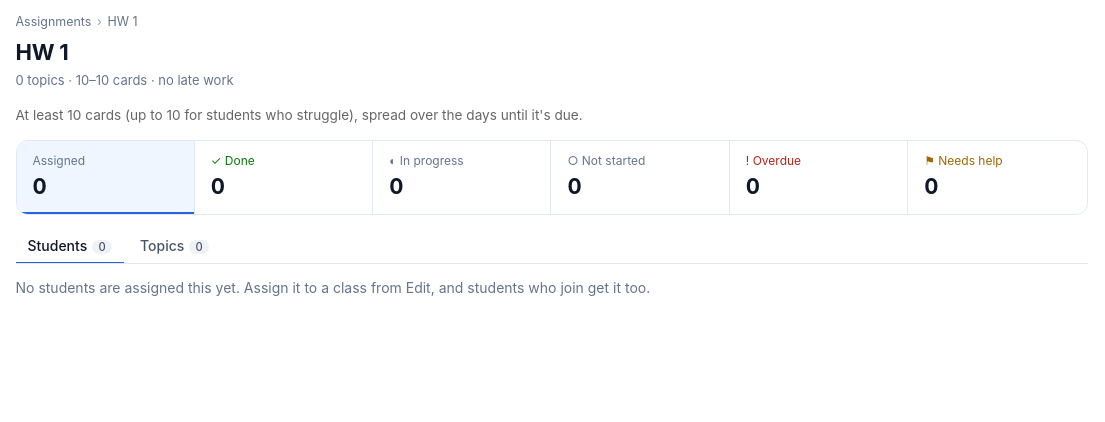
Test: AssignmentDetail › says so when there are no misses yet
Click the tab "Topics0": click(175, 246) x1=128 y1=229 x2=221 y2=264
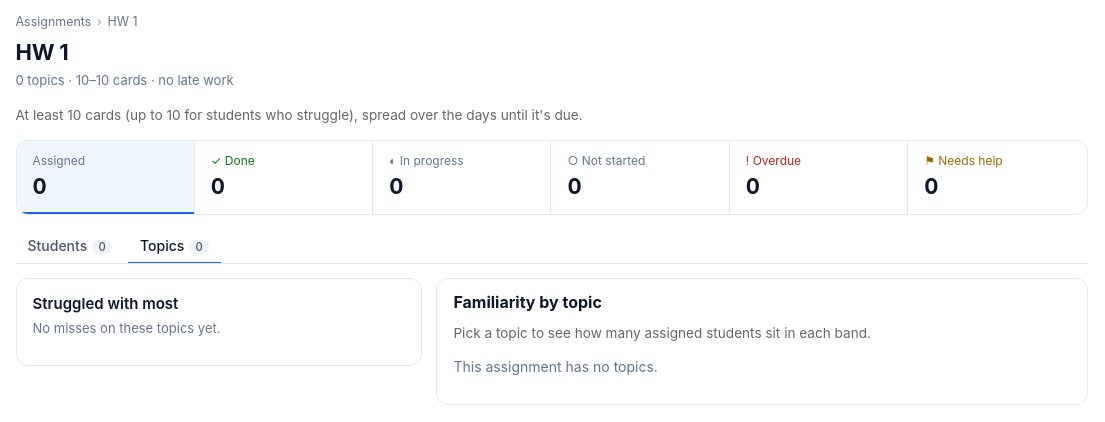
Check: the text "No misses on these topics yet." is shown, box x1=32 y1=320 x2=220 y2=336
